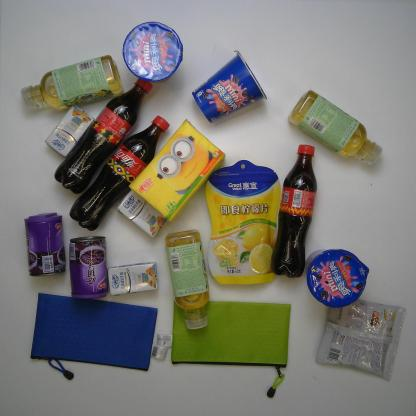Canned Food: (60, 230, 116, 302), (20, 211, 70, 279)
Dessert: (186, 46, 273, 125), (116, 20, 189, 84), (305, 246, 373, 313)
Dried Fruit: (204, 156, 286, 290)
Drink: (66, 111, 173, 234), (52, 76, 157, 196), (285, 88, 385, 170), (18, 50, 129, 117), (268, 140, 320, 282), (164, 228, 216, 333)
Instant Drink: (309, 293, 409, 382)
Milk: (114, 183, 170, 238), (42, 103, 94, 160), (104, 258, 162, 300)
Stationery: (164, 297, 297, 402), (27, 288, 162, 382)
Tissue: (125, 113, 228, 224)
